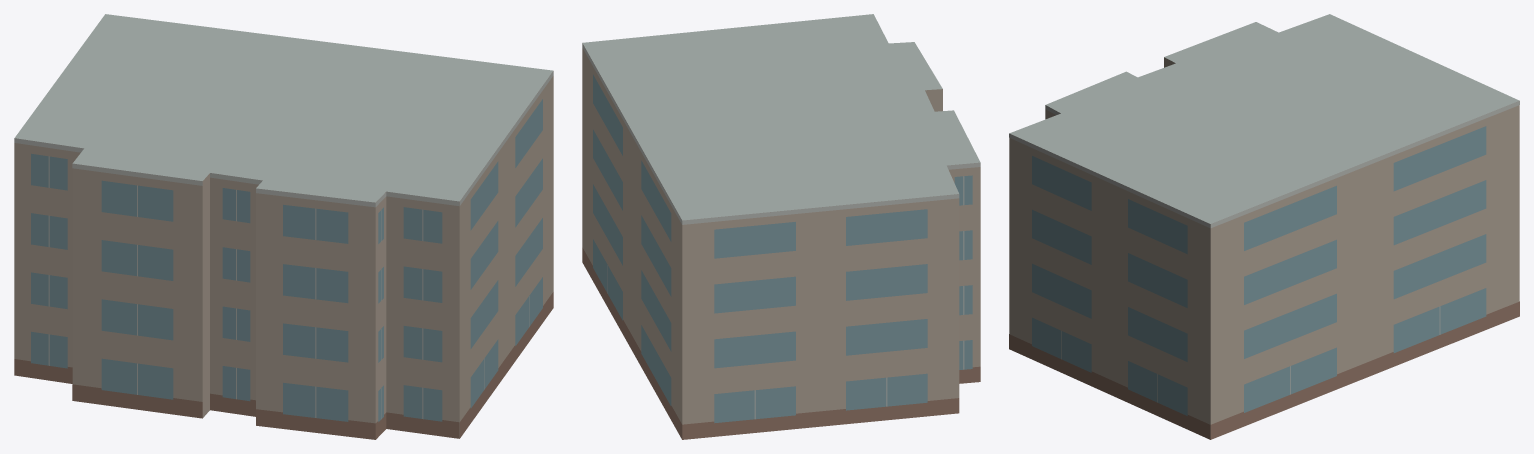
File: survey-upis-32710564.glb
The picture shows the model from 3 angles, left to right: view 1: azimuth 30°, elevation 25°; view 2: azimuth 150°, elevation 25°; view 3: azimuth 270°, elevation 25°; orthographic projection. The views are drawn at different scales.
Parts seen in each view (by area): view 1: survey-upis-32710564.tmp; view 2: survey-upis-32710564.tmp; view 3: survey-upis-32710564.tmp.
Part boxes in pixels (x1,y1,x2,y2): survey-upis-32710564.tmp: [14, 14, 553, 439]; survey-upis-32710564.tmp: [582, 14, 980, 439]; survey-upis-32710564.tmp: [1009, 14, 1519, 439].
Bounding box in the file's own units: 25.48 × 12.2 × 26.17.
